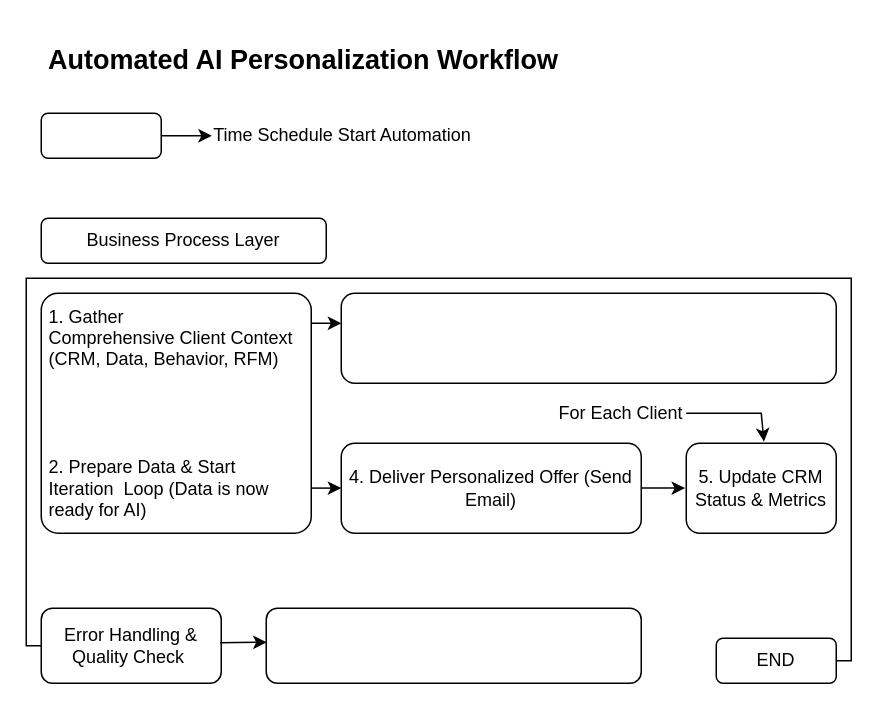
Image size: 879x710. Some labels were removed from this diagram. Each missing label, with the centre of its shape:
"3. AI Agent: Generate Hyper-Personalized Email Body & Subject" goes at (588,337).
"6. Process Complete: Generate Final Summary Report" goes at (453,645).
"START" goes at (100,135).
